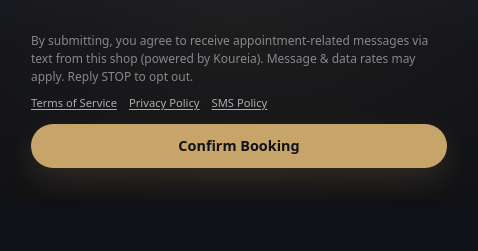
Test: RequestRenderer after-hours submit flow › validates required name and phone fields
What coordinates should you click on to do the following:
click the button "Confirm Booking"
I would click on:
 (239, 146)
Its box is [31, 124, 447, 168].
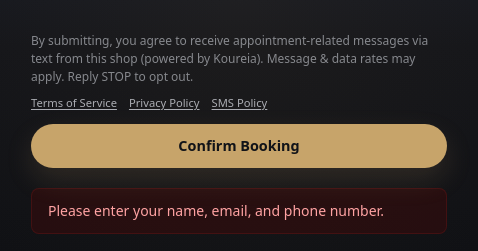
expect the text "Please enter your name, email, and phone number." is shown: met, box [31, 188, 447, 234]
